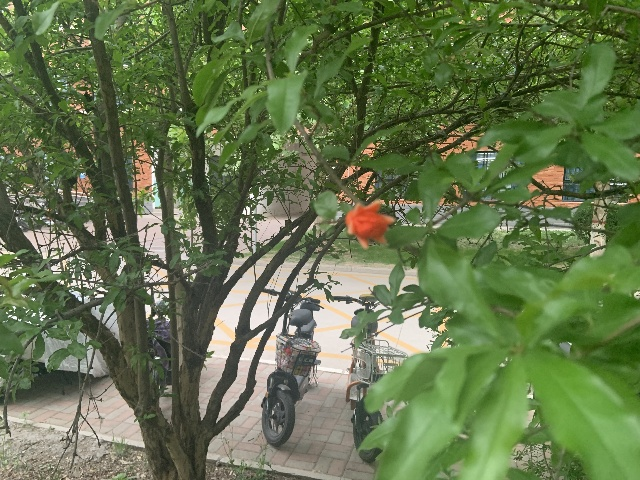flower: (344, 200, 395, 248)
